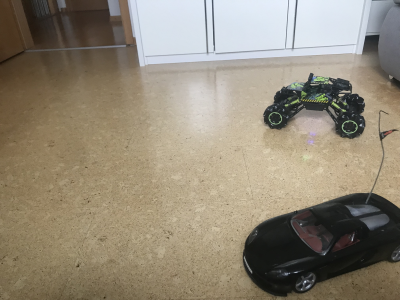remote control car: (263, 71, 367, 141)
